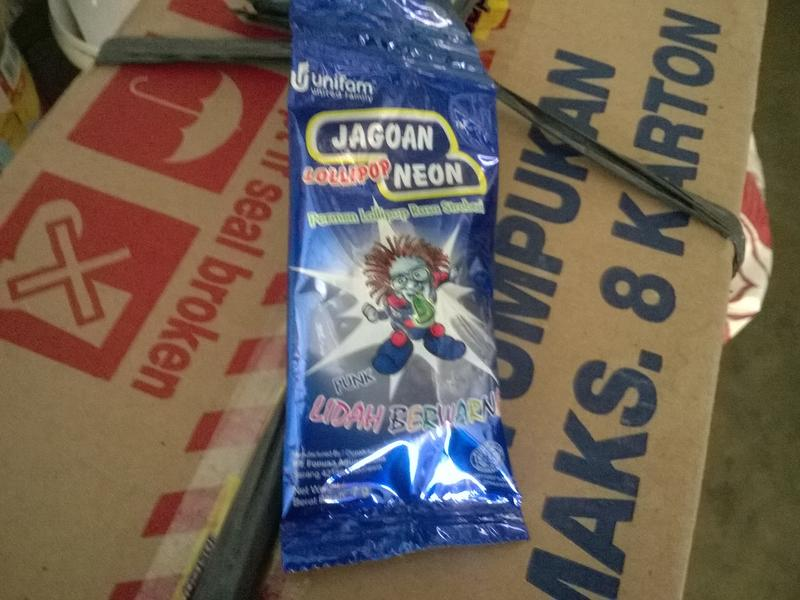jagoan neon: (282, 37, 514, 576)
